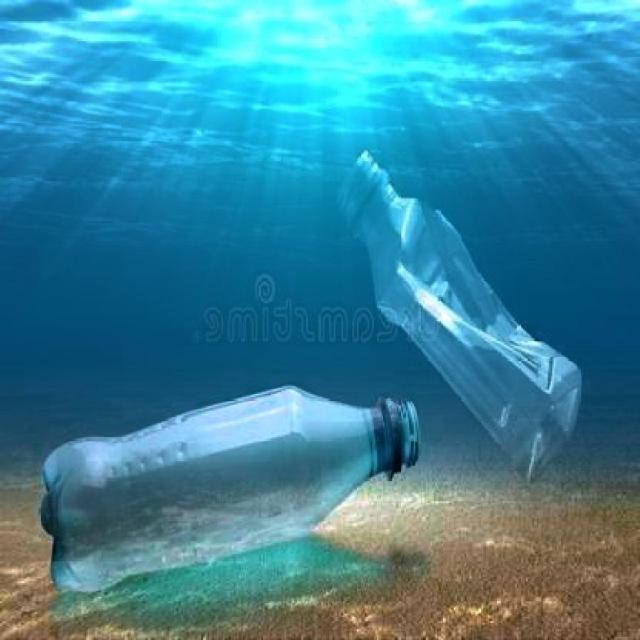pbottle: (338, 152, 584, 486), (37, 387, 420, 596)
